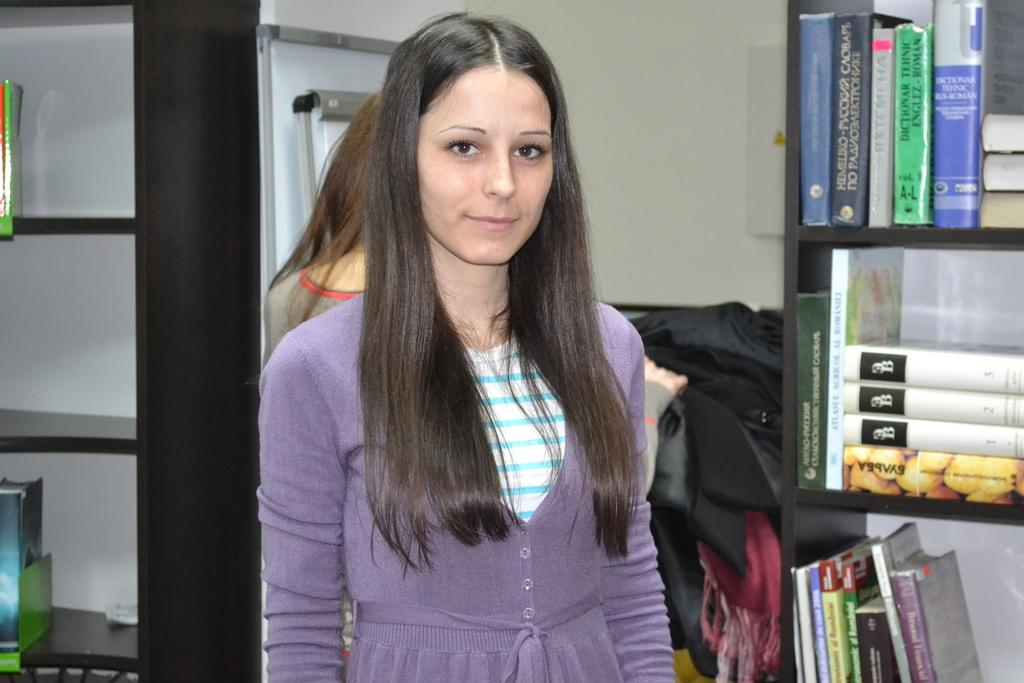Luggage-and-bags: (625, 298, 785, 677)
